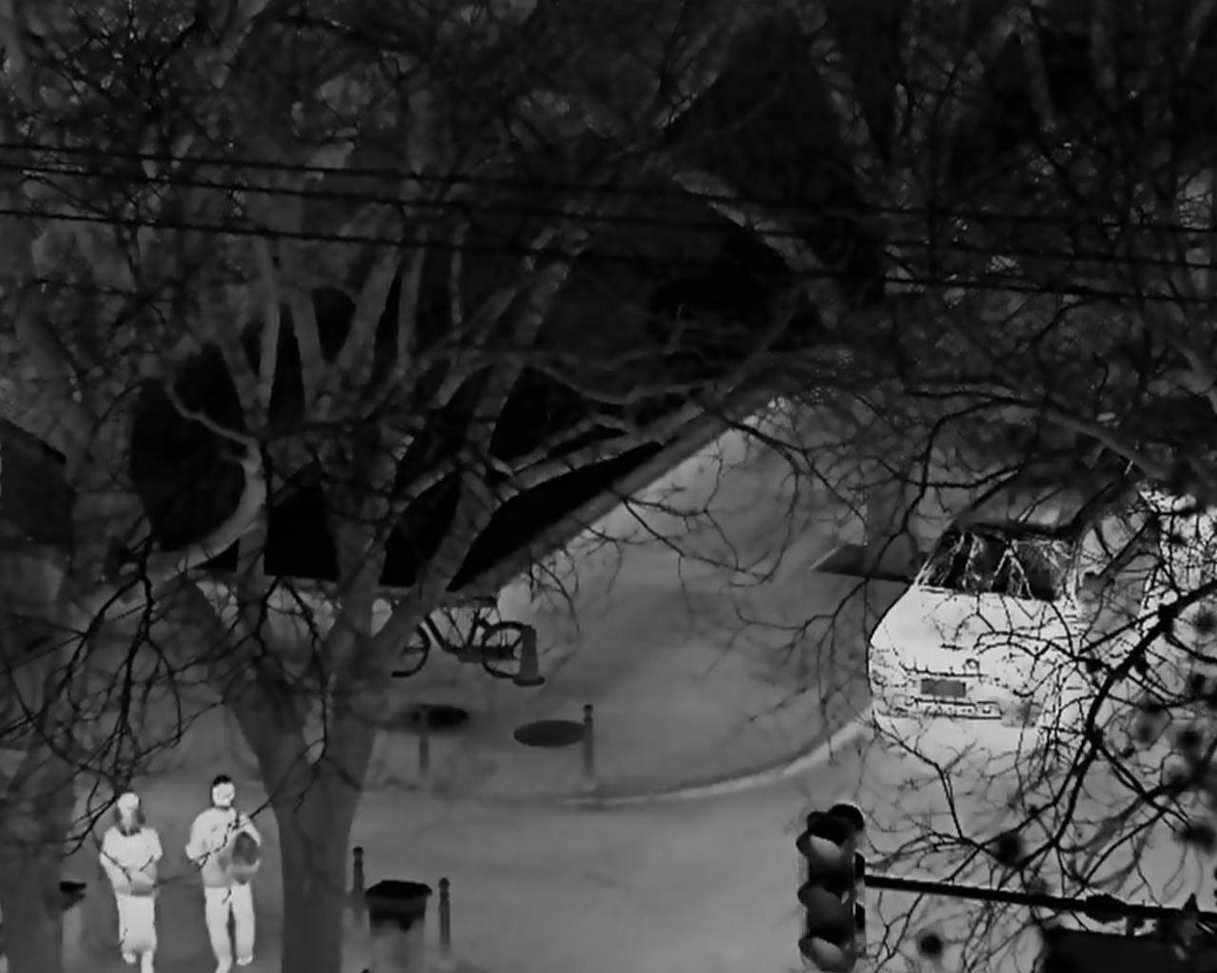person: (184, 774, 263, 973), (97, 790, 163, 973)
